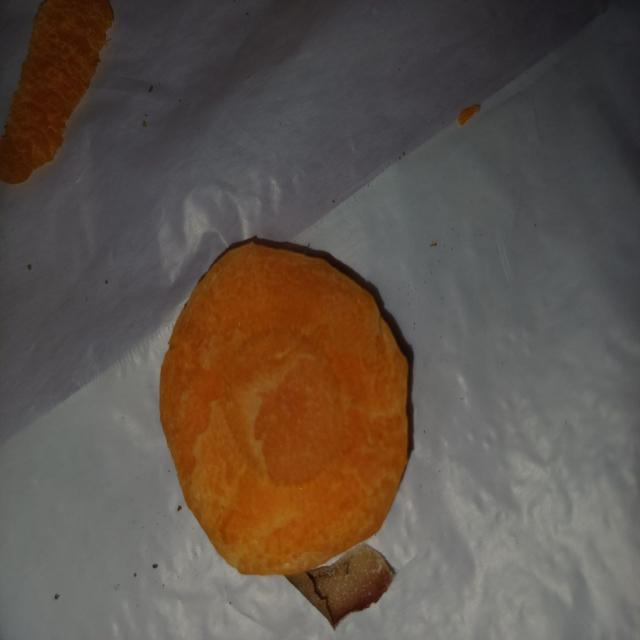organic: (158, 242, 413, 575)
